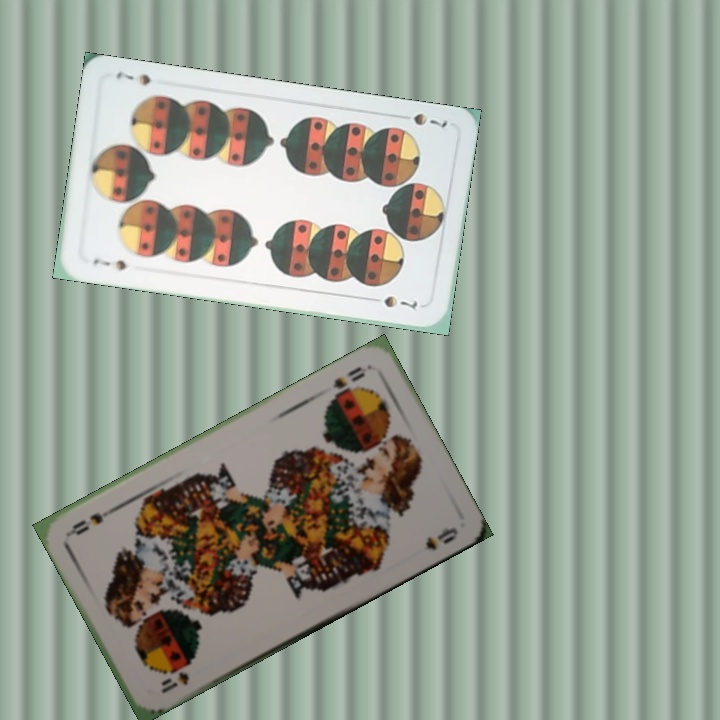S7: (409, 109, 450, 130), (89, 254, 133, 273)
SO: (157, 658, 195, 696), (329, 362, 367, 392)
